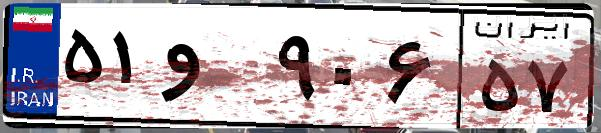0: (330, 28, 385, 110)
1: (110, 28, 158, 98)
5: (57, 26, 110, 100), (475, 38, 525, 113)
6: (385, 28, 445, 110)
7: (525, 38, 570, 115)
9: (270, 28, 330, 110)
و: (158, 20, 270, 120)
